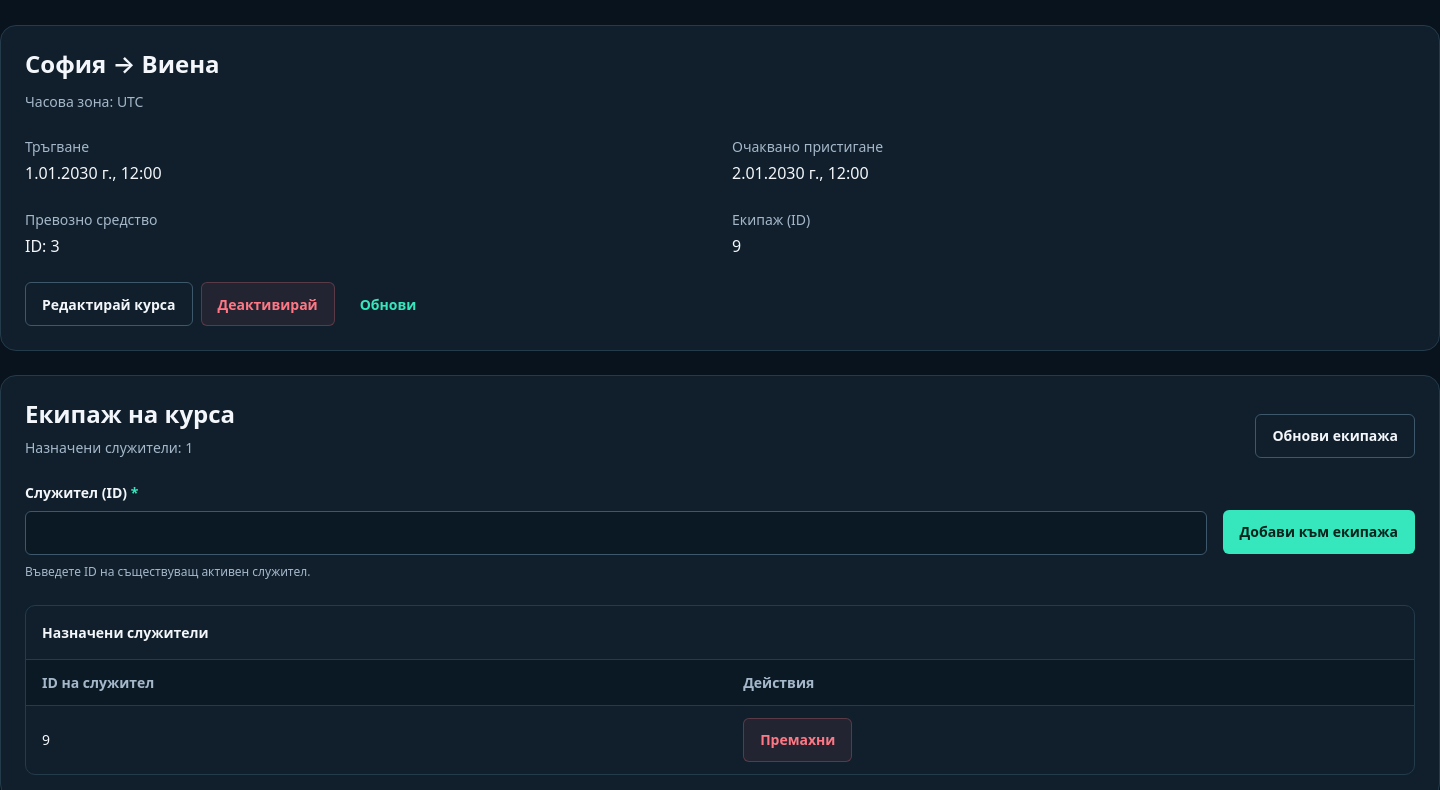
Test: distinguishes successful deletion from failed readback and does not resend DELETE on retry
(page scrolled)
Expected: the table "Назначени служители" is shown, top-left (26, 606), bottom-right (1414, 774)
Click the button with aria-label "Премахни служител #9" at (798, 740), box top-left (743, 718), bottom-right (852, 762)
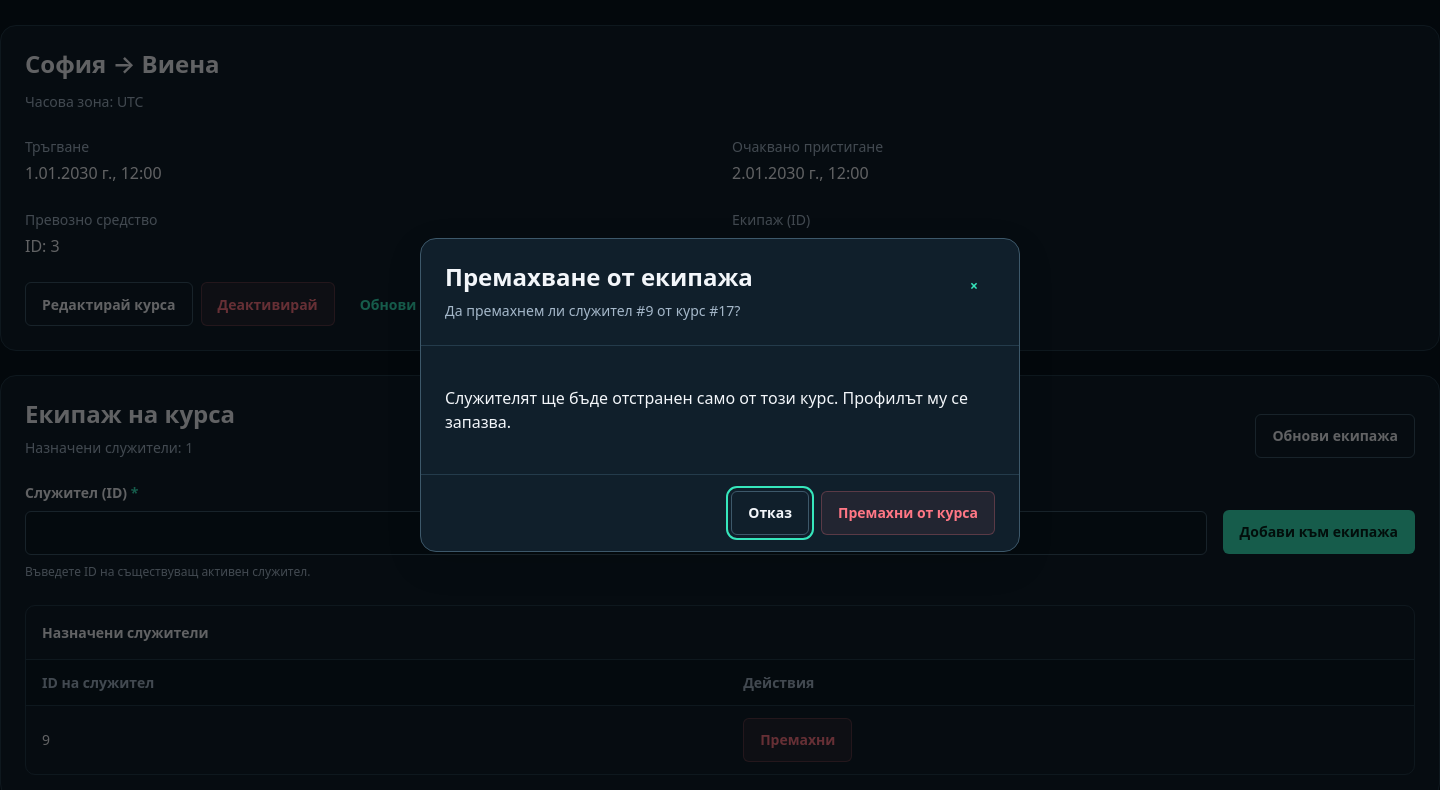
Click the button "Премахни от курса" at (908, 513), box top-left (821, 491), bottom-right (995, 535)
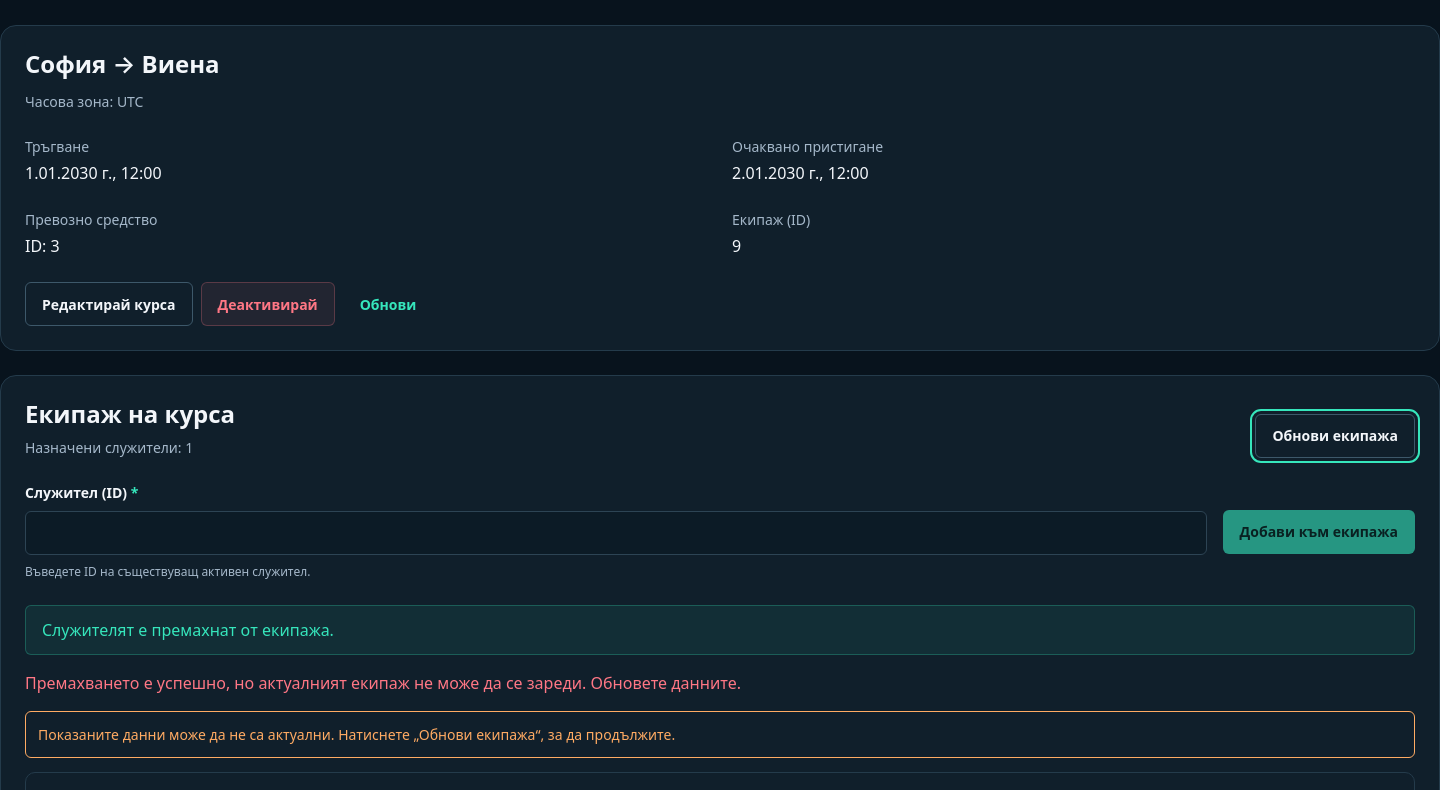
Expected: the 2nd message shows "Премахването е успешно", top-left (25, 672), bottom-right (741, 694)
Click the button "Обнови екипажа" at (1335, 436), box top-left (1255, 414), bottom-right (1415, 458)
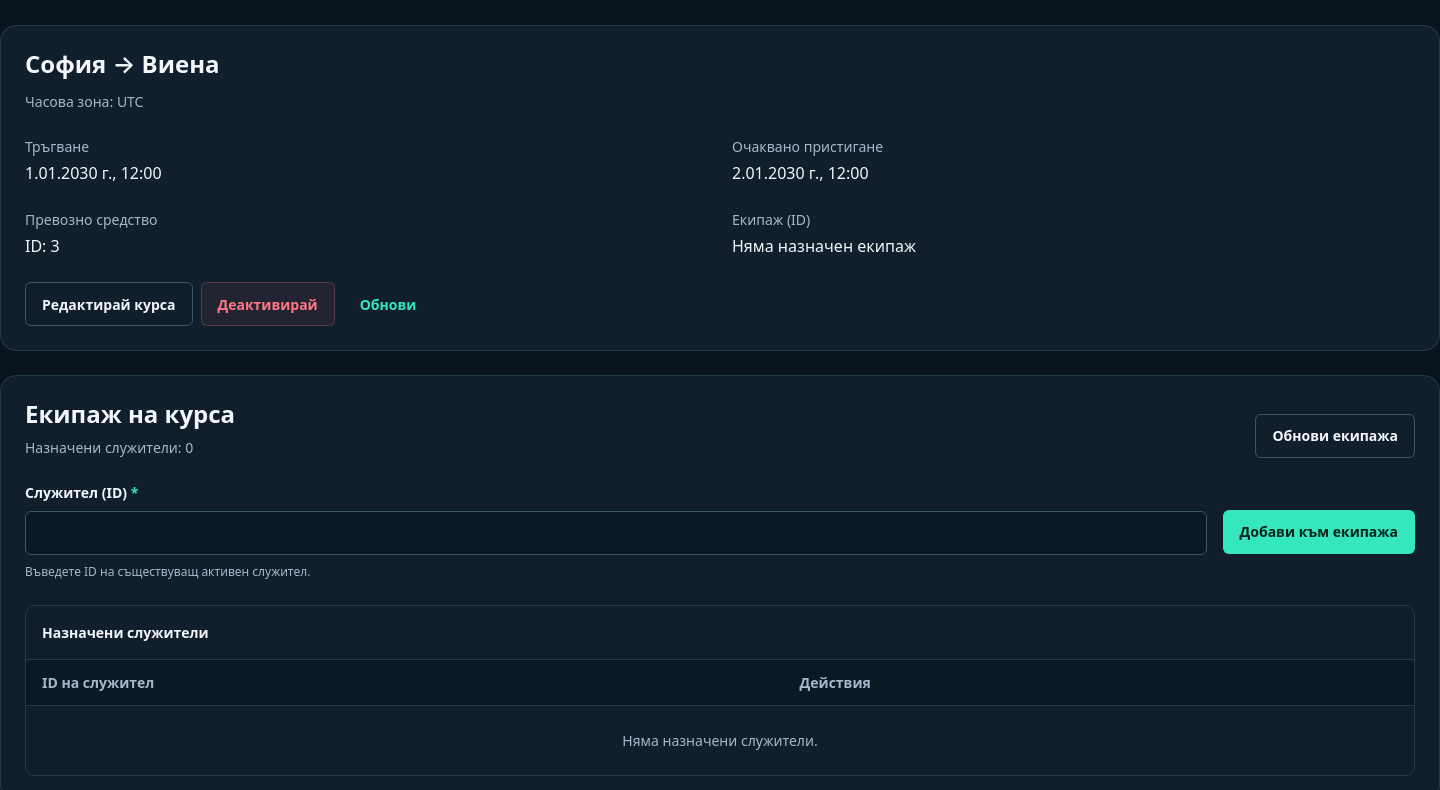
Expected: the text "Няма назначени служители." is shown, top-left (26, 706), bottom-right (1414, 775)
Expected: the button "Добави към екипажа" is enabled, top-left (1223, 510), bottom-right (1415, 554)
